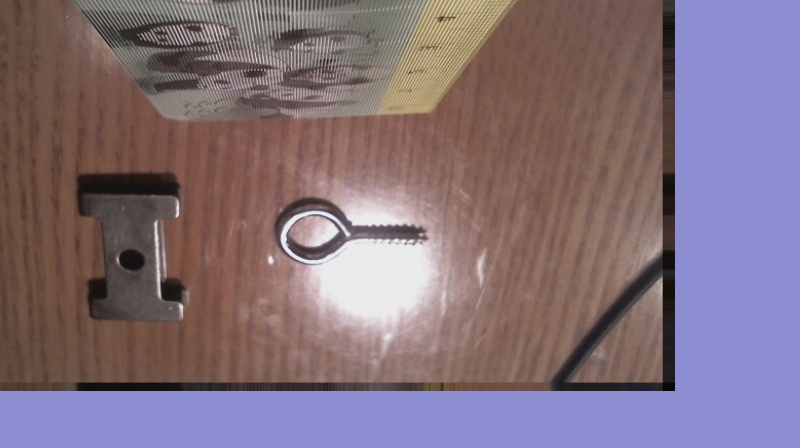O001: (268, 198, 431, 266)
O002: (70, 170, 187, 325)
